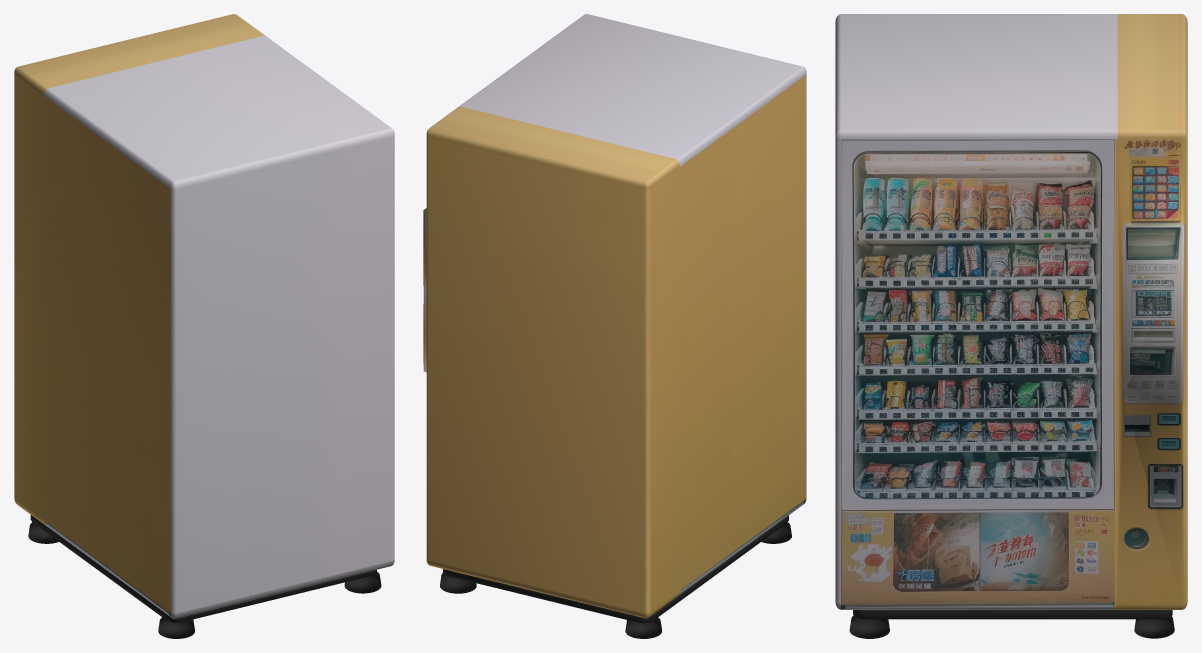
File: vending.glb
3 views of the same model, side by side, from view 1: azimuth 30°, elevation 25°; view 2: azimuth 150°, elevation 25°; view 3: azimuth 270°, elevation 25° (orthographic). The views are drawn at different scales.
Visible parts, largest first — view 1: vending machine_vending machine front_0, vending machine_vending machine bottom_0; view 2: vending machine_vending machine front_0, vending machine_vending machine bottom_0; view 3: vending machine_vending machine front_0, vending machine_vending machine bottom_0.
Boxes of the visible parts, left/top/right/bottom form: vending machine_vending machine front_0: left=14, top=14, right=394, bottom=618; vending machine_vending machine bottom_0: left=28, top=515, right=381, bottom=638; vending machine_vending machine front_0: left=423, top=14, right=806, bottom=618; vending machine_vending machine bottom_0: left=440, top=515, right=791, bottom=638; vending machine_vending machine front_0: left=835, top=14, right=1187, bottom=609; vending machine_vending machine bottom_0: left=849, top=610, right=1174, bottom=638.
Size of the model in its own units: 0.9468 by 1.85 by 1.16.
Materials: 2 (1 with a texture image).
